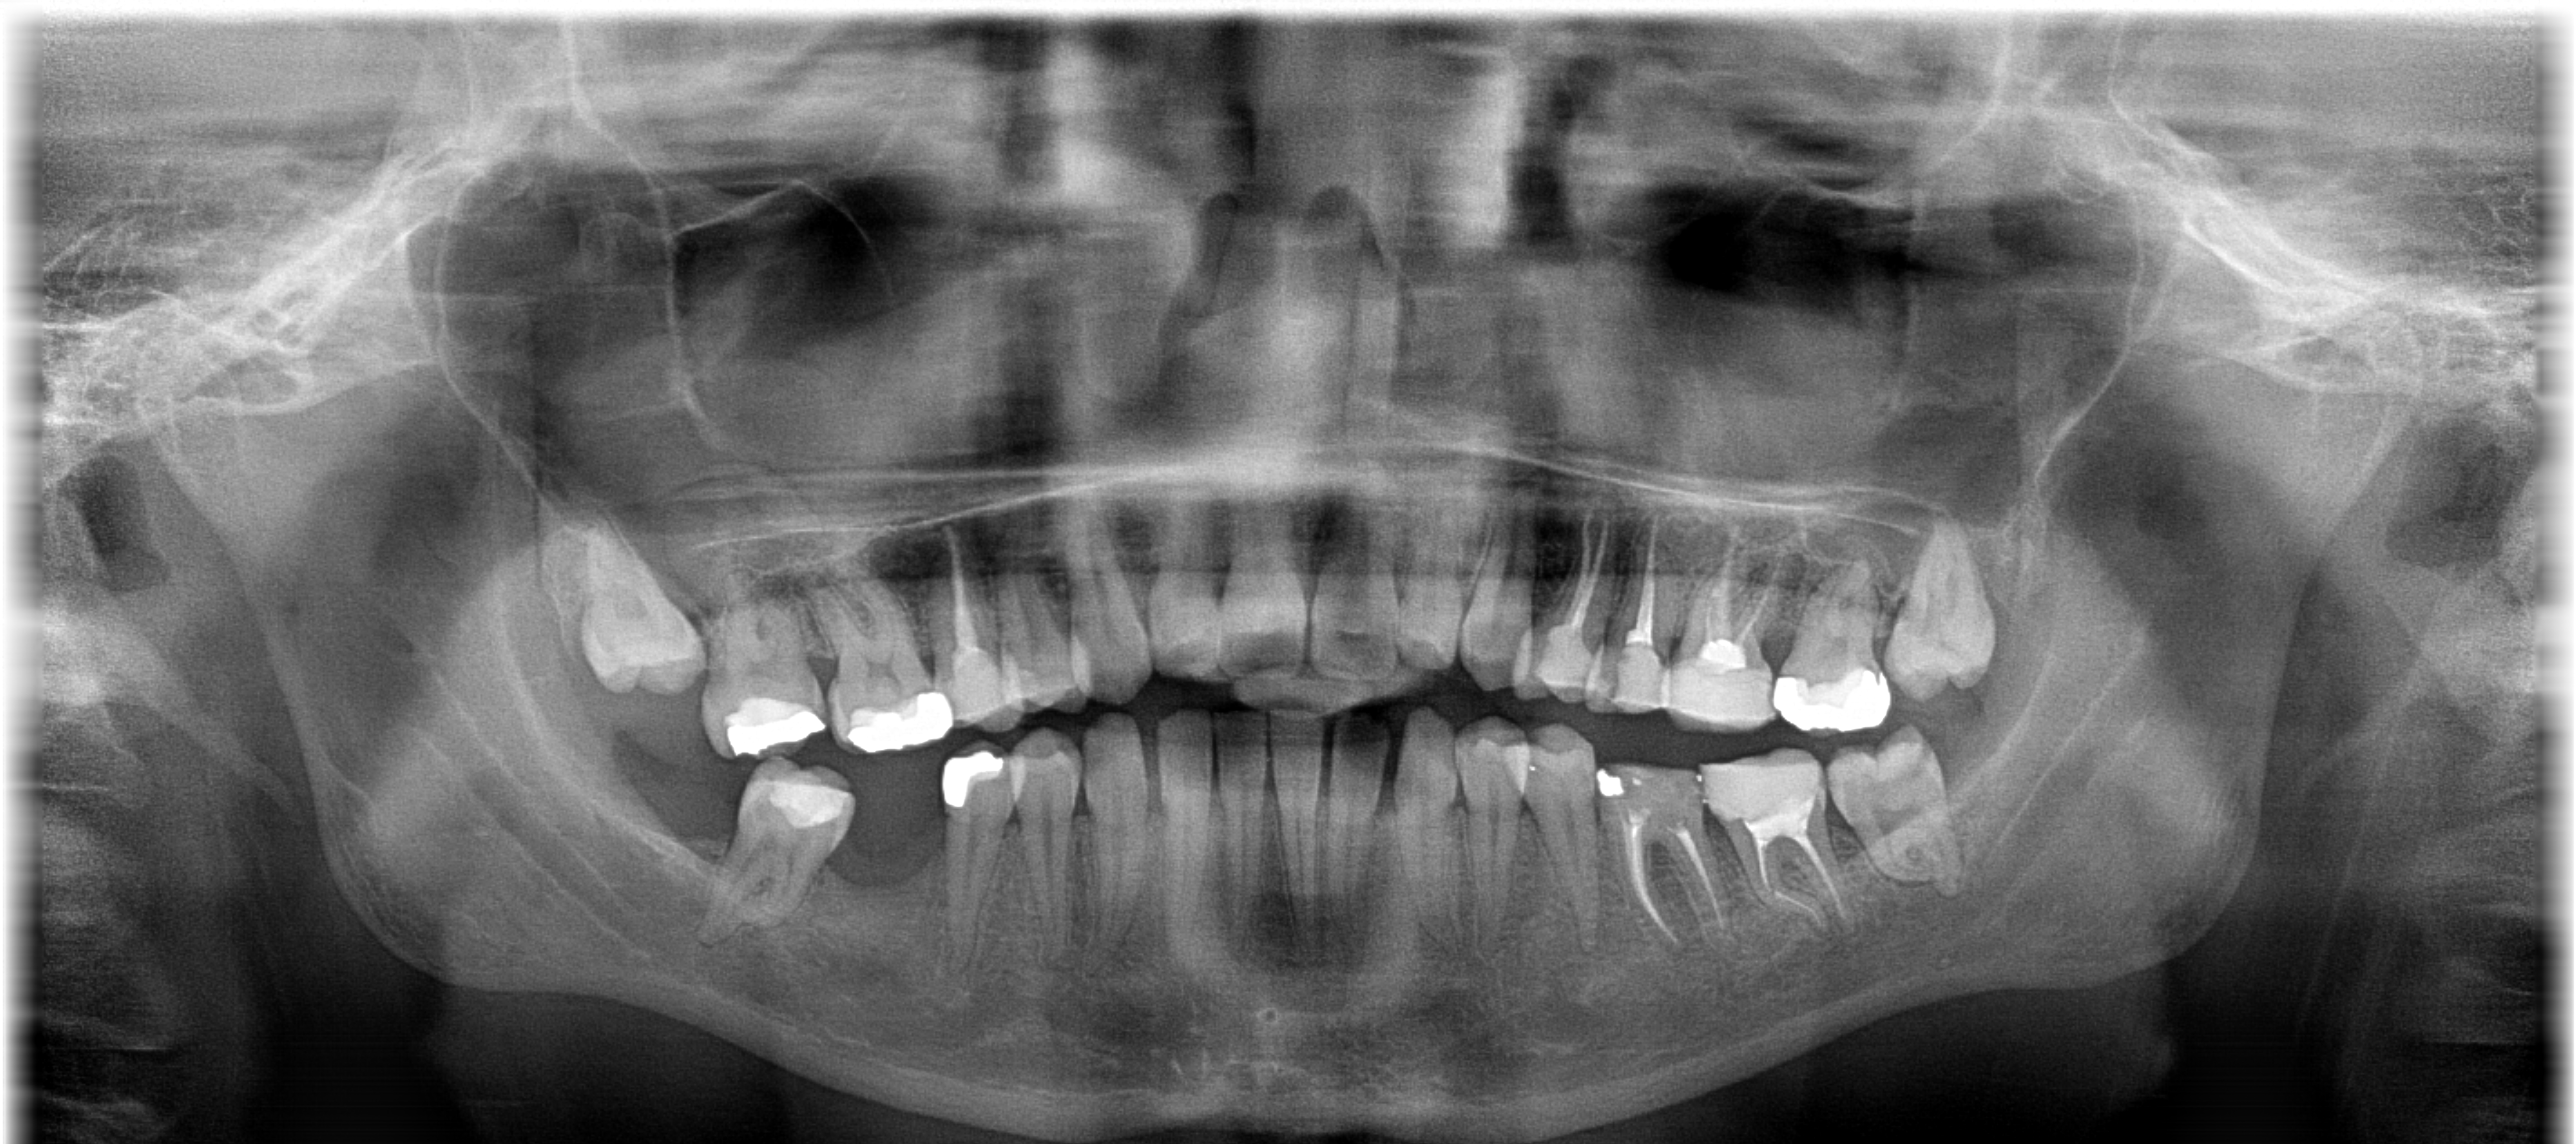cordal: (508, 487, 733, 717), (1812, 713, 2011, 917), (1861, 490, 2017, 705)
diastema: (1360, 712, 1424, 935), (1127, 705, 1180, 912)
tratamiento_conducto: (1582, 735, 1753, 983), (1671, 516, 1791, 759), (907, 518, 1028, 743), (1580, 493, 1684, 735)
zona_dentula: (797, 756, 968, 970)
